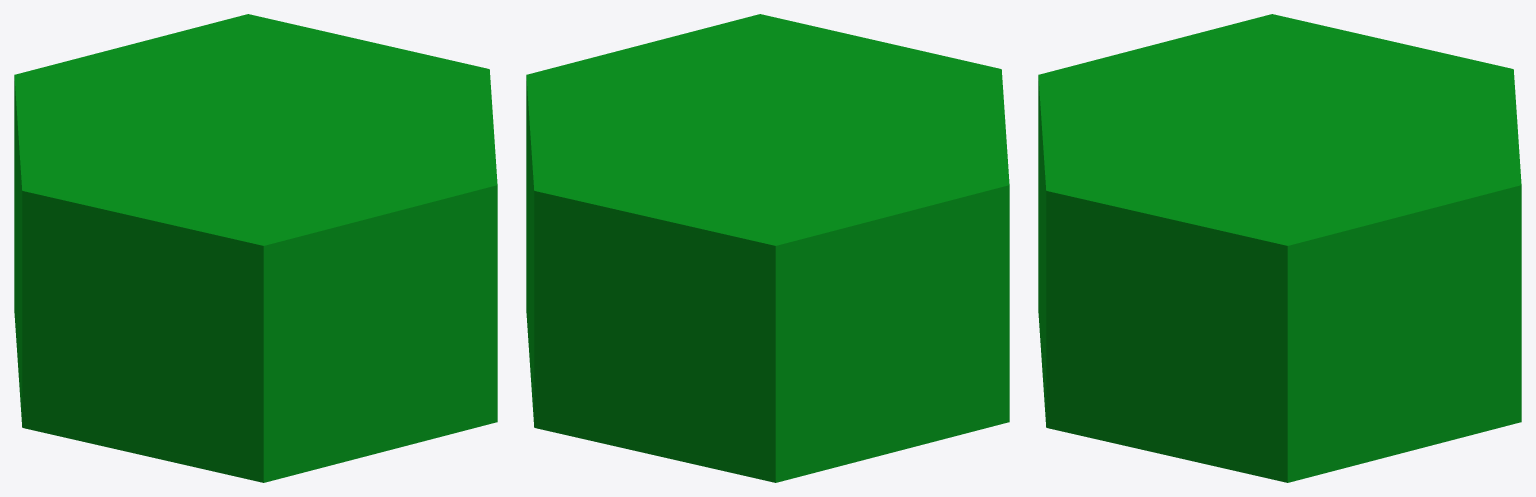
File: Sap_Extractor_Full.fbx
The picture shows the model from 3 angles, left to right: view 1: azimuth 30°, elevation 25°; view 2: azimuth 150°, elevation 25°; view 3: azimuth 270°, elevation 25°; orthographic projection.
Parts seen in each view (by area): view 1: Cylinder.606; view 2: Cylinder.606; view 3: Cylinder.606.
Part boxes in pixels (x1,y1,x2,y2): Cylinder.606: (14,14,497,482); Cylinder.606: (526,14,1009,482); Cylinder.606: (1038,14,1521,482).
Size of the model in its own units: 2053 by 978 by 1807.
